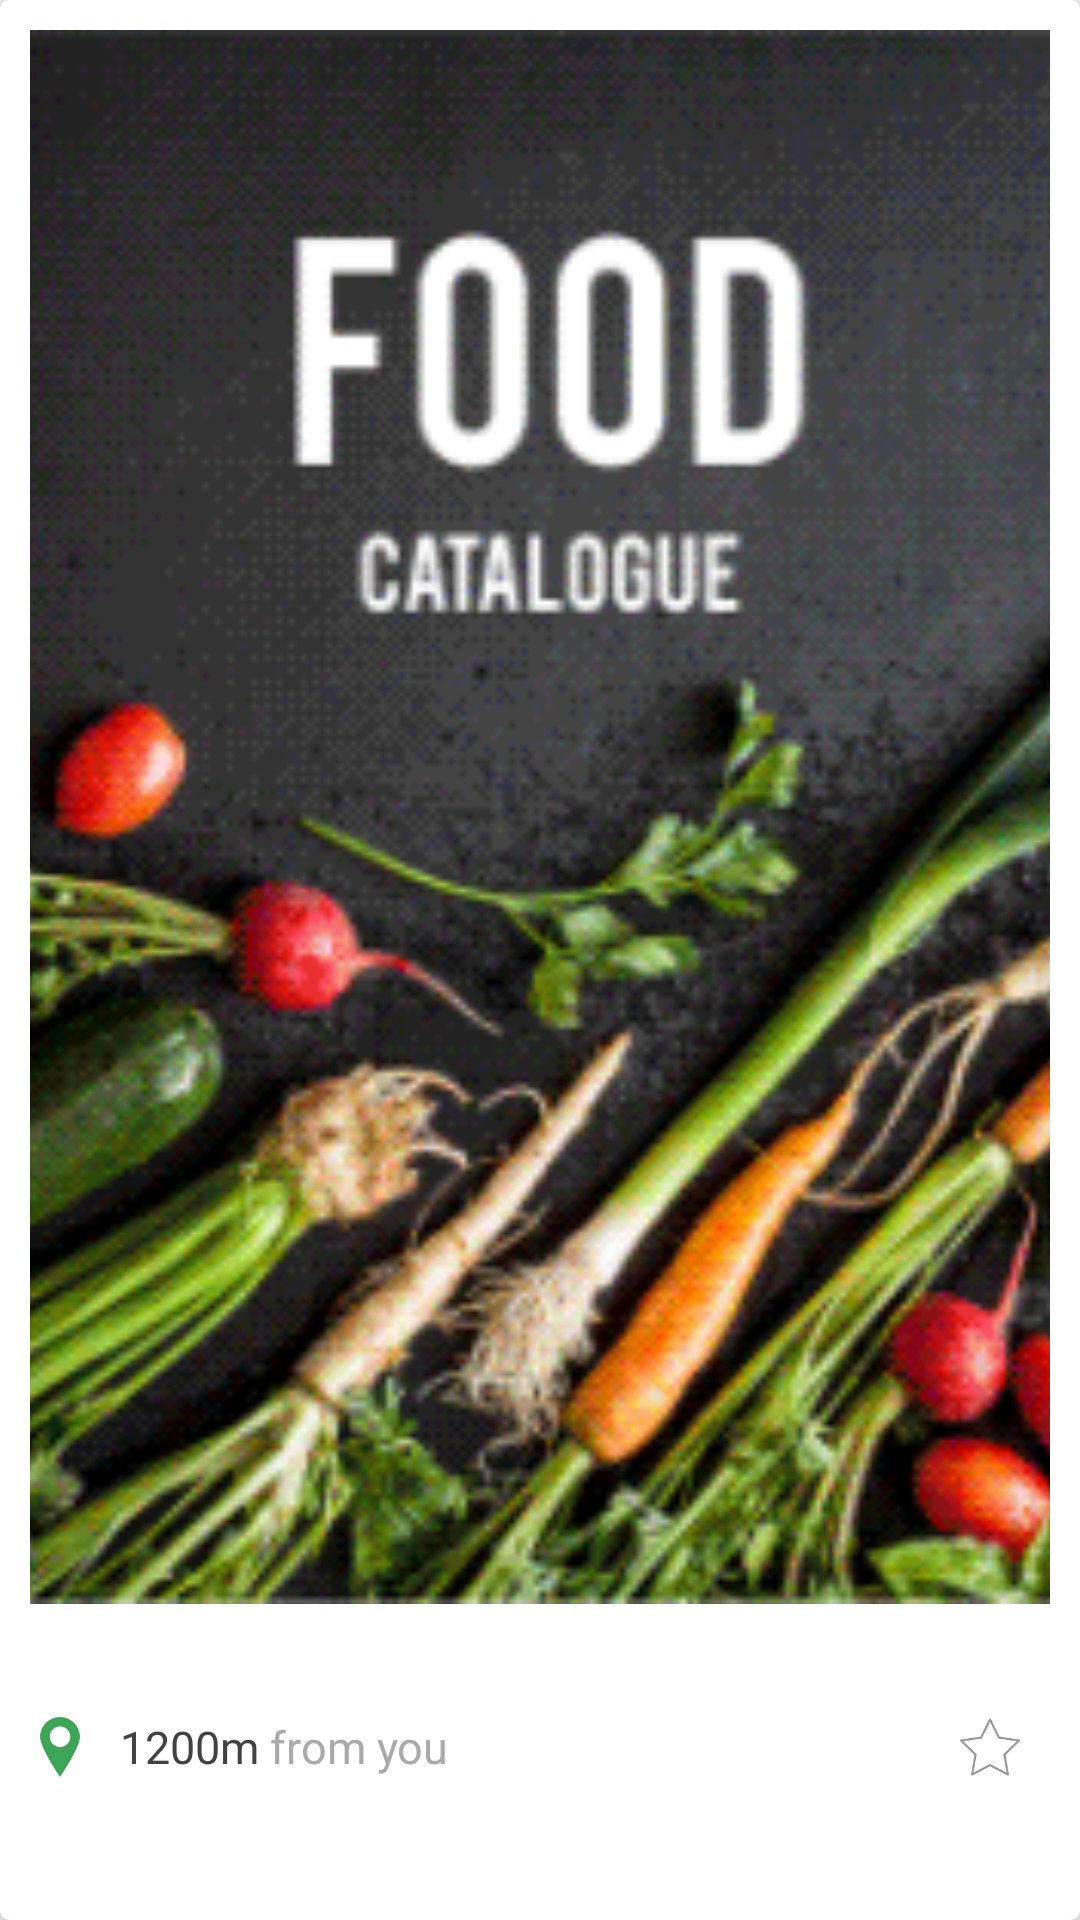

Named icons in this screenshot (1080 x 1920) and their bounding boxes, (x1, y1, x2, y2):
favorite: (960, 1718, 1020, 1776)
location: (40, 1717, 80, 1777)
